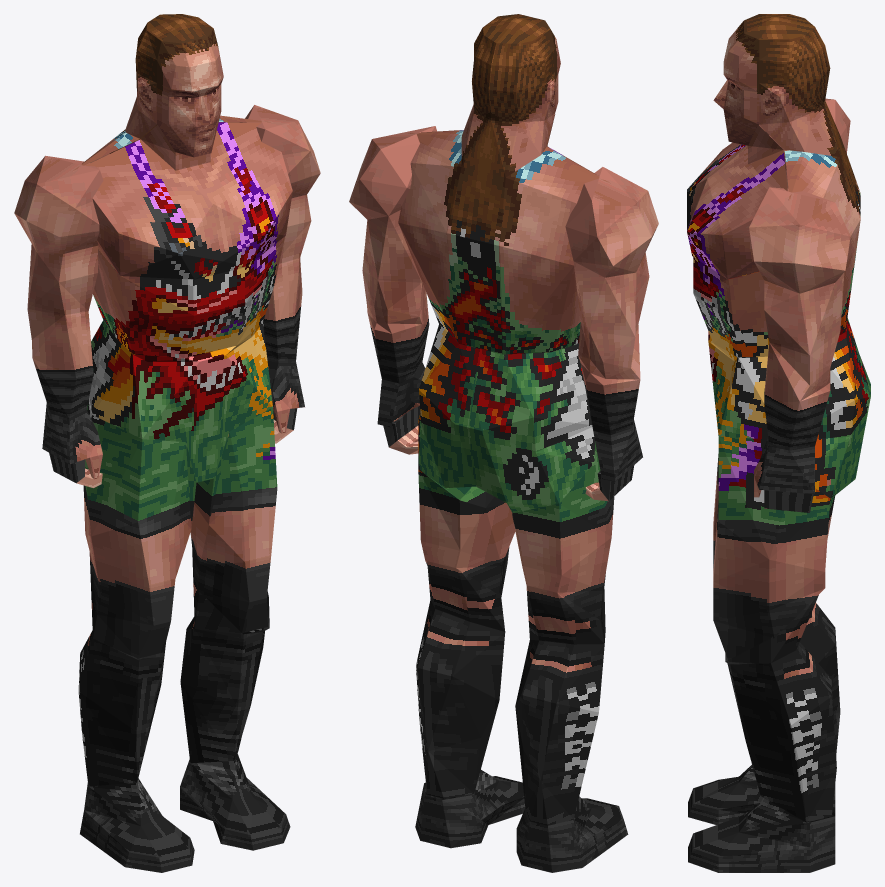
File: rob_van_dam_1.glb
3 renders of one model, left to right at view 1: azimuth 30°, elevation 25°; view 2: azimuth 150°, elevation 25°; view 3: azimuth 270°, elevation 25°, orthographic.
Visible parts, largest first — view 1: 085_77635E88_c.bmp, 088_5FDF5C69_c.bmp, 077_3EC92E83_c.bmp, 082_6689124_c.bmp, 096_5F509591_c.bmp, 083_15928AAF_c.bmp, 092_37371386_c.bmp, 075_372D51C9_c.bmp, 080_3101C094_c.bmp, 091_3A2EEF65_c.bmp, 079_148DA247_c.bmp, 066_31027824_c.bmp (+8 smaller); view 2: 083_15928AAF_c.bmp, 075_372D51C9_c.bmp, 092_37371386_c.bmp, 087_57955902_c.bmp, 090_2AF27DA_c.bmp, 096_5F509591_c.bmp, 094_4B08DA27_c.bmp, 088_5FDF5C69_c.bmp, 078_5F50CC41_c.bmp, 079_148DA247_c.bmp, 077_3EC92E83_c.bmp, 080_3101C094_c.bmp (+7 smaller); view 3: 077_3EC92E83_c.bmp, 075_372D51C9_c.bmp, 078_5F50CC41_c.bmp, 079_148DA247_c.bmp, 094_4B08DA27_c.bmp, 085_77635E88_c.bmp, 066_31027824_c.bmp, 082_6689124_c.bmp, 076_734B38E0_c.bmp, 091_3A2EEF65_c.bmp, 090_2AF27DA_c.bmp, 080_3101C094_c.bmp (+5 smaller).
Boxes of the visible parts, left/top/right/bottom form: 085_77635E88_c.bmp: left=73, top=122, right=292, bottom=279; 088_5FDF5C69_c.bmp: left=83, top=415, right=191, bottom=658; 077_3EC92E83_c.bmp: left=190, top=407, right=277, bottom=632; 082_6689124_c.bmp: left=98, top=236, right=284, bottom=358; 096_5F509591_c.bmp: left=14, top=155, right=103, bottom=339; 083_15928AAF_c.bmp: left=87, top=320, right=212, bottom=528; 092_37371386_c.bmp: left=78, top=553, right=165, bottom=786; 075_372D51C9_c.bmp: left=180, top=546, right=269, bottom=763; 080_3101C094_c.bmp: left=80, top=778, right=194, bottom=872; 091_3A2EEF65_c.bmp: left=157, top=28, right=223, bottom=157; 079_148DA247_c.bmp: left=194, top=323, right=272, bottom=524; 066_31027824_c.bmp: left=180, top=754, right=290, bottom=850; 083_15928AAF_c.bmp: left=468, top=343, right=594, bottom=513; 075_372D51C9_c.bmp: left=416, top=561, right=505, bottom=798; 092_37371386_c.bmp: left=515, top=585, right=605, bottom=825; 087_57955902_c.bmp: left=398, top=223, right=580, bottom=354; 090_2AF27DA_c.bmp: left=398, top=130, right=609, bottom=265; 096_5F509591_c.bmp: left=565, top=167, right=658, bottom=378; 094_4B08DA27_c.bmp: left=461, top=14, right=554, bottom=177; 088_5FDF5C69_c.bmp: left=512, top=441, right=614, bottom=630; 078_5F50CC41_c.bmp: left=349, top=126, right=437, bottom=323; 079_148DA247_c.bmp: left=418, top=324, right=506, bottom=507; 077_3EC92E83_c.bmp: left=418, top=469, right=515, bottom=596; 080_3101C094_c.bmp: left=516, top=796, right=628, bottom=872; 077_3EC92E83_c.bmp: left=713, top=436, right=835, bottom=660; 075_372D51C9_c.bmp: left=725, top=595, right=836, bottom=822; 078_5F50CC41_c.bmp: left=749, top=187, right=850, bottom=386; 079_148DA247_c.bmp: left=708, top=324, right=870, bottom=498; 094_4B08DA27_c.bmp: left=744, top=14, right=840, bottom=156; 085_77635E88_c.bmp: left=687, top=125, right=788, bottom=279; 066_31027824_c.bmp: left=688, top=797, right=835, bottom=872; 082_6689124_c.bmp: left=693, top=257, right=769, bottom=357; 076_734B38E0_c.bmp: left=764, top=343, right=830, bottom=450; 091_3A2EEF65_c.bmp: left=713, top=21, right=759, bottom=145; 090_2AF27DA_c.bmp: left=784, top=136, right=860, bottom=236; 080_3101C094_c.bmp: left=688, top=765, right=835, bottom=824.
Bounding box in the file's own units: 0.066 × 0.177 × 0.0362.
22 materials, 22 textured.
